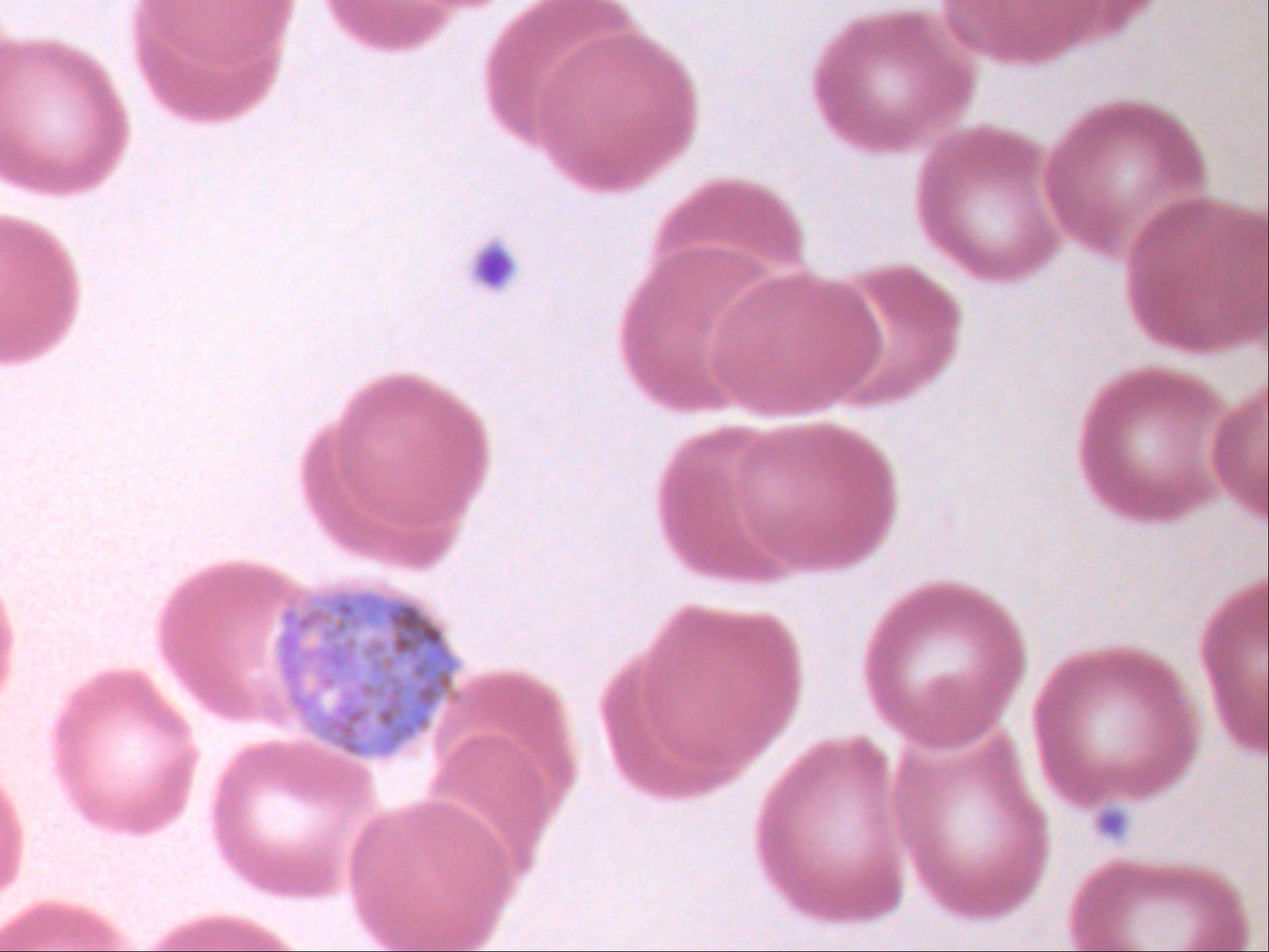Infected: (273, 585, 463, 756)
Uninfected: (894, 730, 1048, 917), (760, 740, 912, 920), (634, 605, 798, 767), (1034, 648, 1199, 806), (866, 582, 1026, 744), (1044, 103, 1212, 256), (332, 370, 490, 532), (534, 35, 698, 191), (213, 740, 371, 899), (53, 669, 200, 838), (719, 273, 886, 418), (625, 246, 771, 409), (354, 805, 513, 952), (922, 128, 1073, 281), (155, 559, 299, 719), (304, 425, 463, 569), (739, 425, 894, 570), (813, 10, 970, 153), (1081, 369, 1227, 521), (433, 671, 576, 824), (660, 429, 800, 583), (1129, 200, 1269, 353), (0, 35, 134, 193), (486, 0, 633, 139), (601, 659, 739, 800), (658, 179, 804, 311), (833, 265, 960, 409), (139, 0, 286, 123), (430, 735, 549, 876), (1067, 862, 1243, 952), (0, 213, 81, 369)
